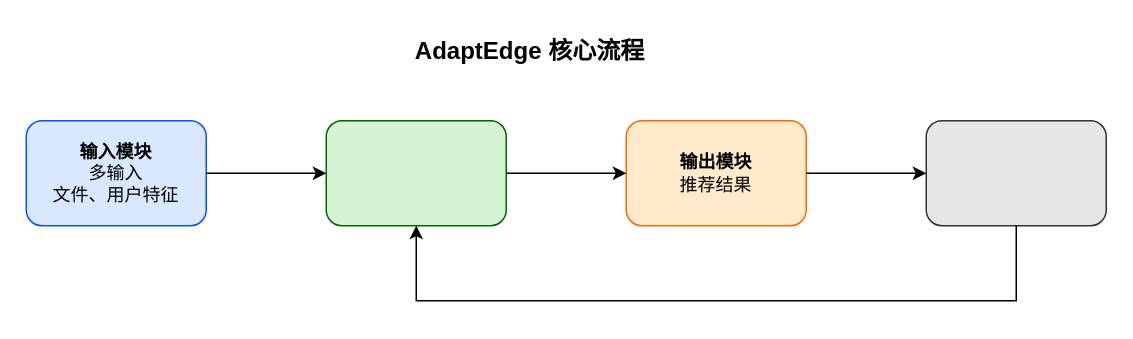
Some shapes in this 1133 by 339 pixel diagram are drawn without their labels. Here are the shapes that lost their labels. From the top down, the centre of each, then its label:
(x=415, y=172): 转换模块 多规则+AI 传统规则、决策树
(x=1015, y=172): 反馈模块 权重调整
